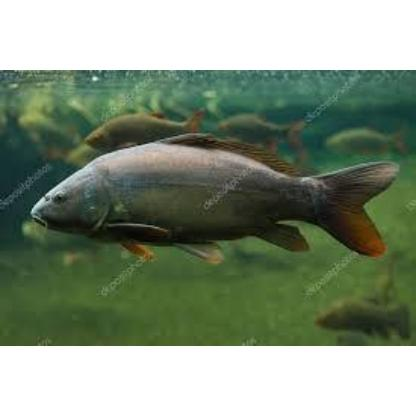ikan-mas: (29, 134, 397, 260)
